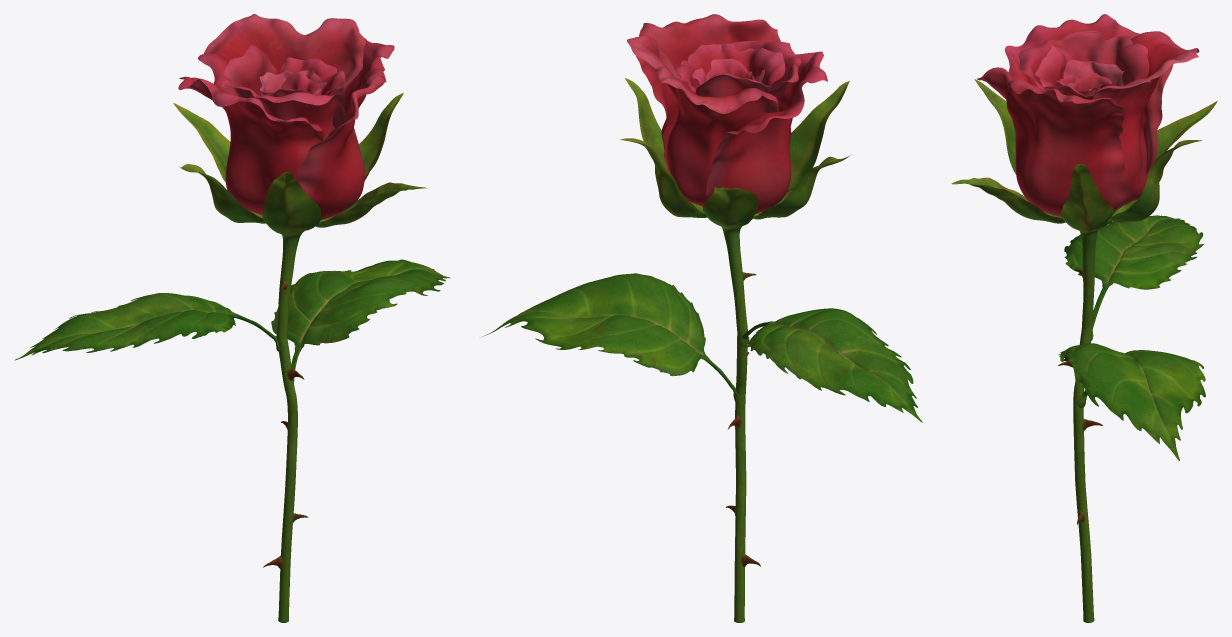
The model's file is Роза.glb.
3 views of the same model, side by side, from view 1: azimuth 30°, elevation 25°; view 2: azimuth 150°, elevation 25°; view 3: azimuth 270°, elevation 25° (orthographic). The views are drawn at different scales.
Parts seen in each view (by area): view 1: Stem_hp, Leaves_hp_Rose_0.001, Petal_1_hp, Leaves_hp, Petal_2_hp, Petal_3_hp, Petal_4_hp, Petal_5_hp, Petal_6_hp; view 2: Leaves_hp_Rose_0.001, Stem_hp, Leaves_hp, Petal_2_hp, Petal_1_hp, Petal_3_hp, Petal_5_hp, Petal_4_hp, Petal_7_hp; view 3: Petal_3_hp, Stem_hp, Leaves_hp_Rose_0.001, Leaves_hp, Petal_2_hp, Petal_4_hp, Petal_1_hp, Petal_5_hp, Petal_6_hp, Petal_8_hp, Leaf_stems_hp.
Boxes of the visible parts, x1,y1,x2,y2 form: Stem_hp: [173, 93, 426, 622]; Leaves_hp_Rose_0.001: [30, 259, 450, 348]; Petal_1_hp: [178, 76, 325, 215]; Leaves_hp: [14, 274, 382, 360]; Petal_2_hp: [198, 14, 365, 128]; Petal_3_hp: [296, 38, 394, 219]; Petal_4_hp: [221, 44, 345, 139]; Petal_5_hp: [266, 57, 346, 129]; Petal_6_hp: [259, 69, 325, 95]; Leaves_hp_Rose_0.001: [482, 273, 903, 412]; Stem_hp: [620, 78, 850, 622]; Leaves_hp: [571, 308, 922, 422]; Petal_2_hp: [627, 35, 779, 205]; Petal_1_hp: [706, 51, 827, 214]; Petal_3_hp: [636, 14, 780, 207]; Petal_5_hp: [675, 43, 785, 94]; Petal_4_hp: [695, 41, 800, 101]; Petal_7_hp: [705, 58, 754, 80]; Petal_3_hp: [977, 67, 1134, 216]; Stem_hp: [951, 79, 1217, 622]; Leaves_hp_Rose_0.001: [1058, 220, 1205, 460]; Leaves_hp: [1064, 215, 1203, 394]; Petal_2_hp: [1092, 31, 1199, 200]; Petal_4_hp: [1018, 30, 1149, 89]; Petal_1_hp: [1004, 14, 1173, 177]; Petal_5_hp: [1035, 45, 1093, 99]; Petal_6_hp: [1063, 60, 1123, 95]; Petal_8_hp: [1068, 73, 1112, 90]; Leaf_stems_hp: [1077, 280, 1112, 408].
Bounding box in the file's own units: 1.26 × 1.56 × 0.6506.
Materials: 1 (1 with a texture image).
